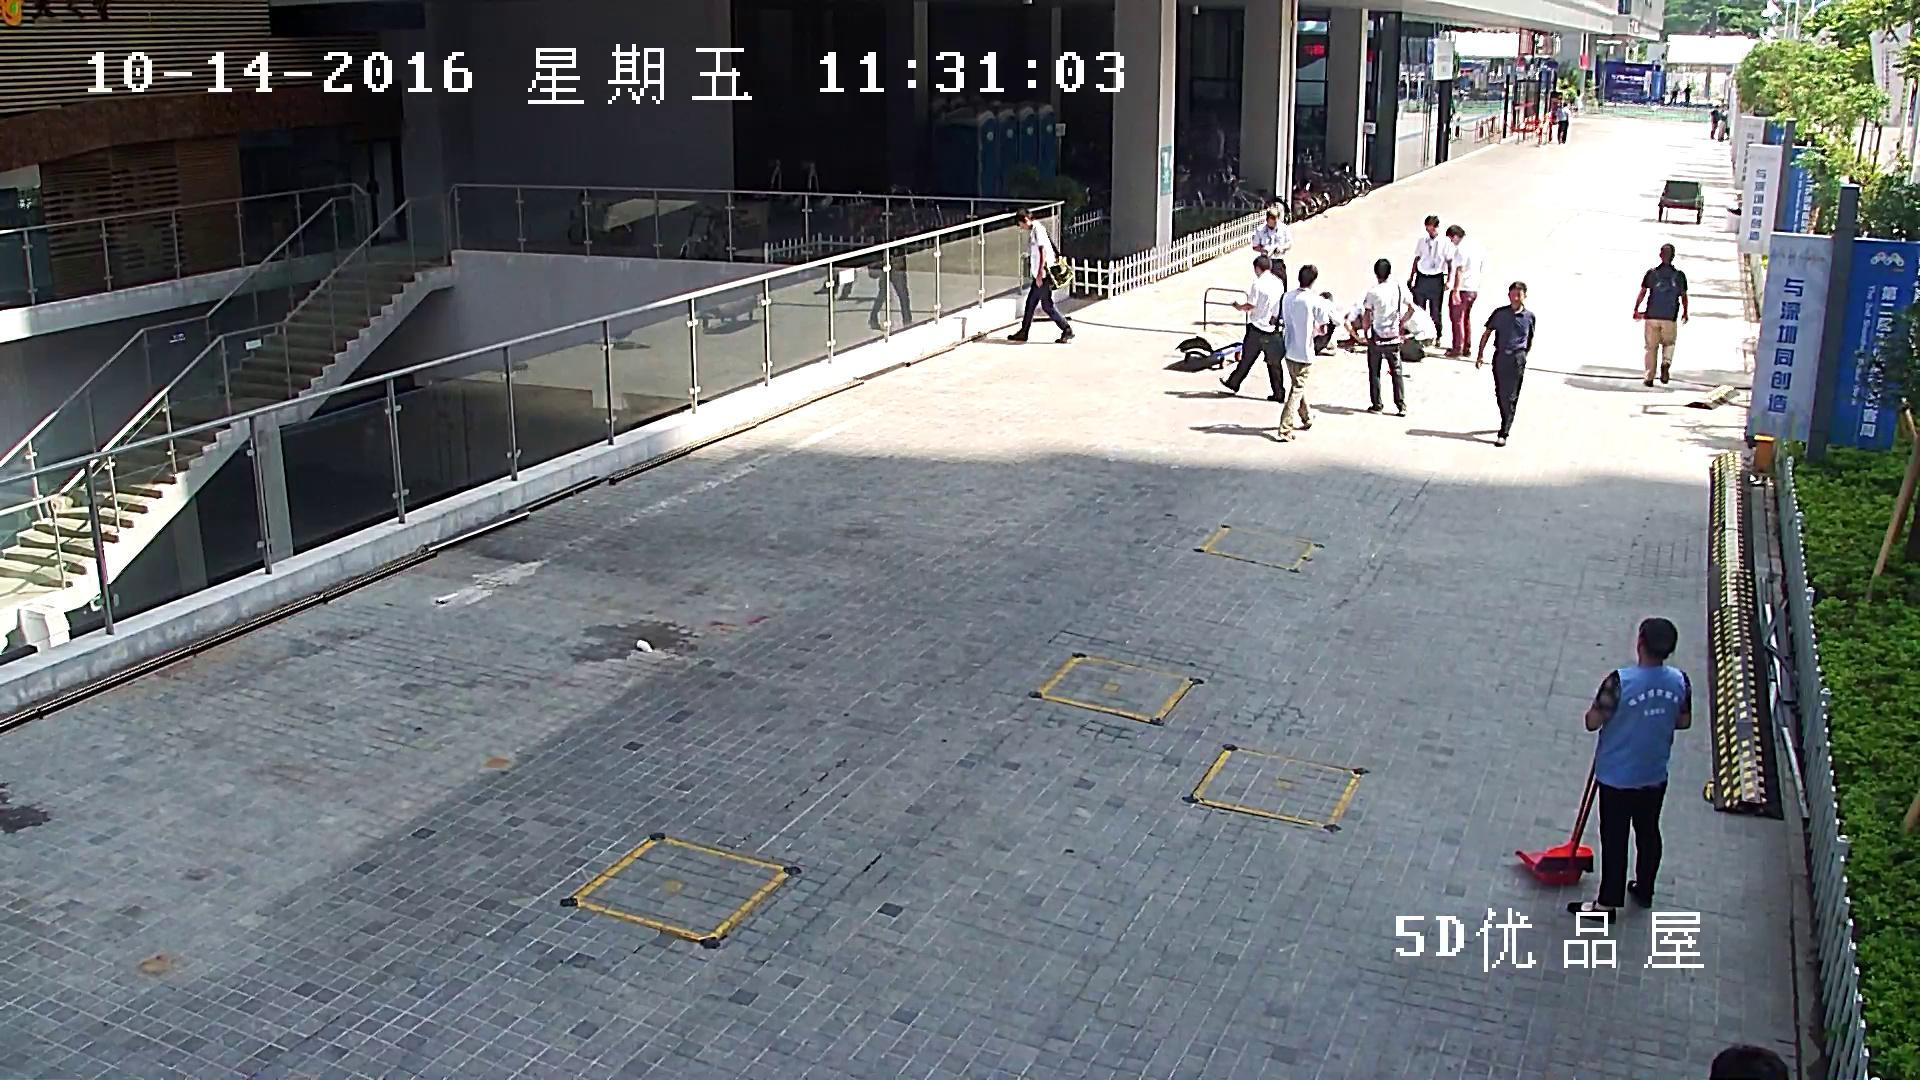person: (1515, 616, 1692, 926), (1567, 617, 1691, 925), (1268, 265, 1329, 441), (1476, 281, 1535, 447), (1220, 255, 1285, 403), (1008, 206, 1075, 344), (1364, 258, 1415, 416), (1633, 243, 1688, 386), (1407, 214, 1452, 348), (1446, 224, 1484, 357), (867, 244, 912, 327), (1251, 207, 1291, 293), (1400, 301, 1437, 356), (1313, 292, 1337, 355), (1345, 298, 1374, 350), (1557, 107, 1569, 143), (1718, 104, 1727, 142), (1711, 105, 1720, 138), (1668, 82, 1679, 105), (1681, 83, 1692, 103)
